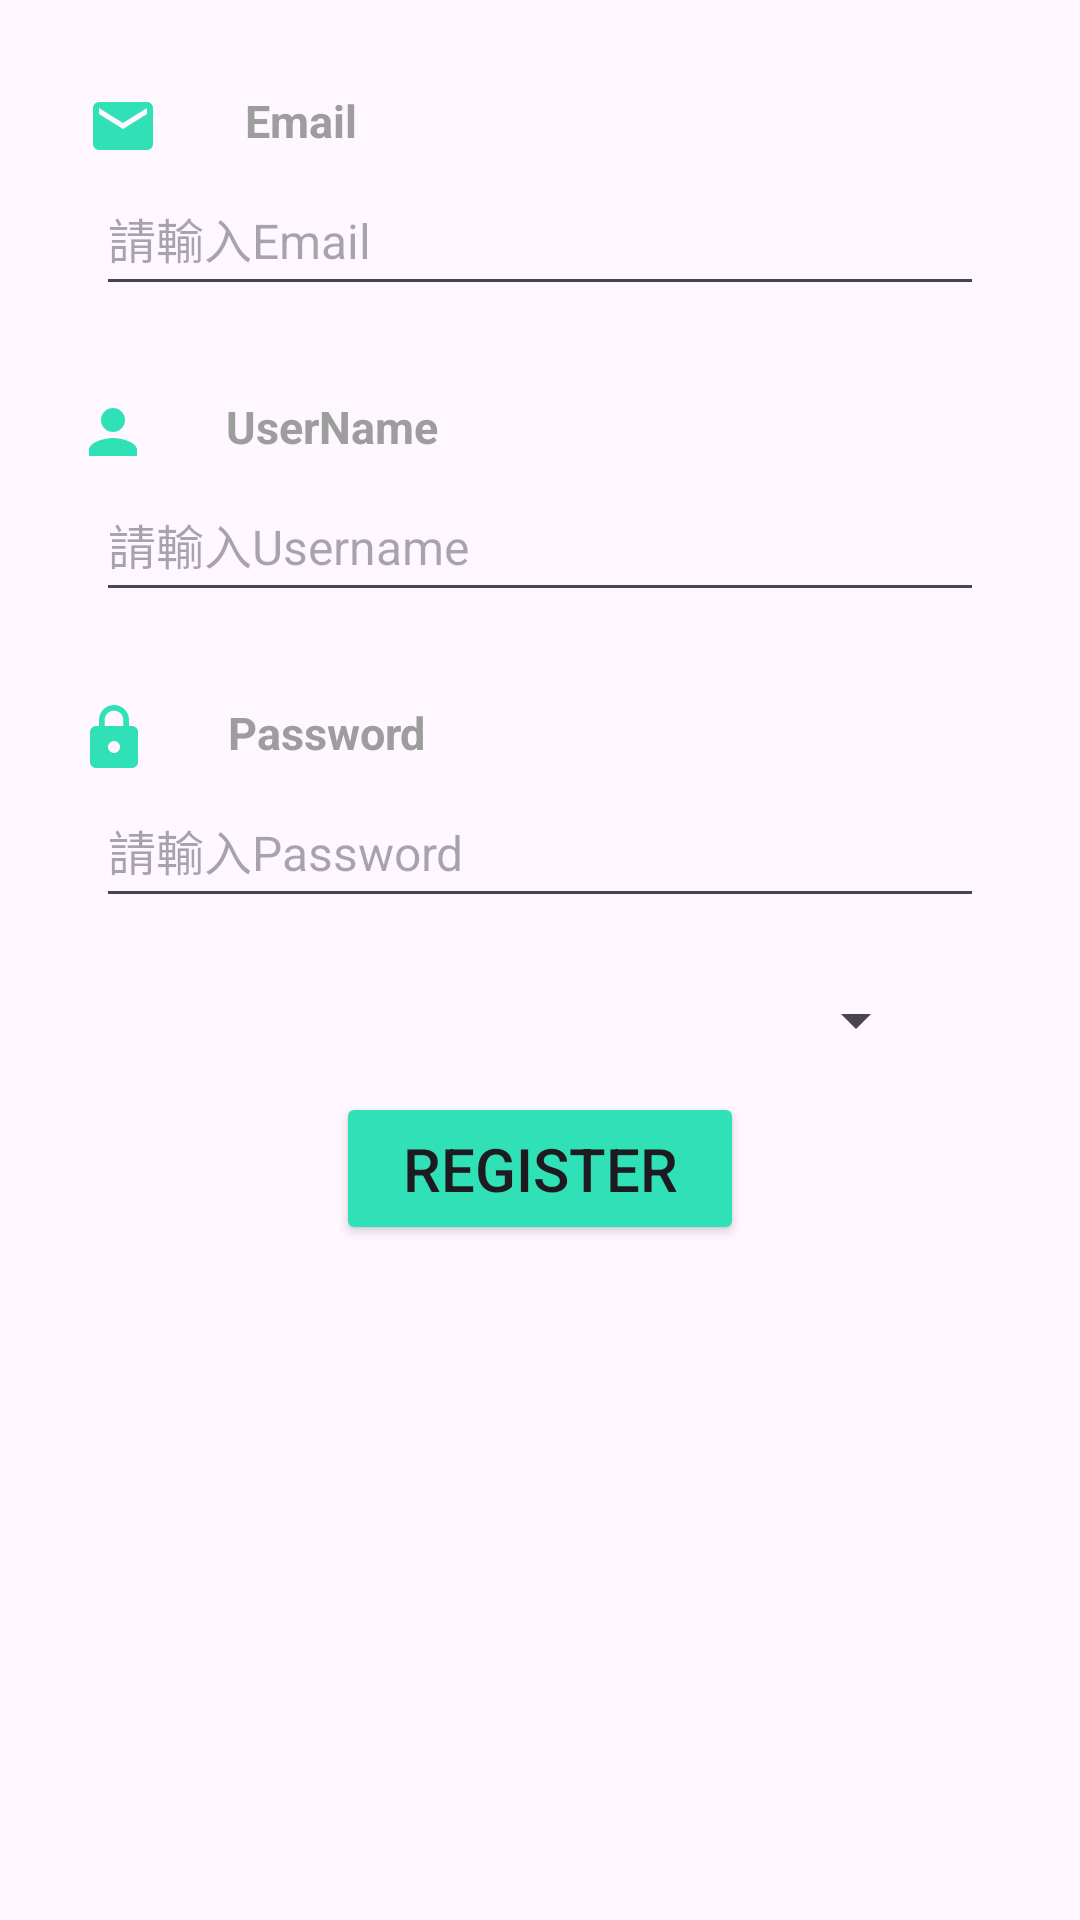

Icons on this 1080 x 1920 Android screen, each with the point to tap as (x=x, y=y):
lock: (x=114, y=736)
person: (x=113, y=432)
